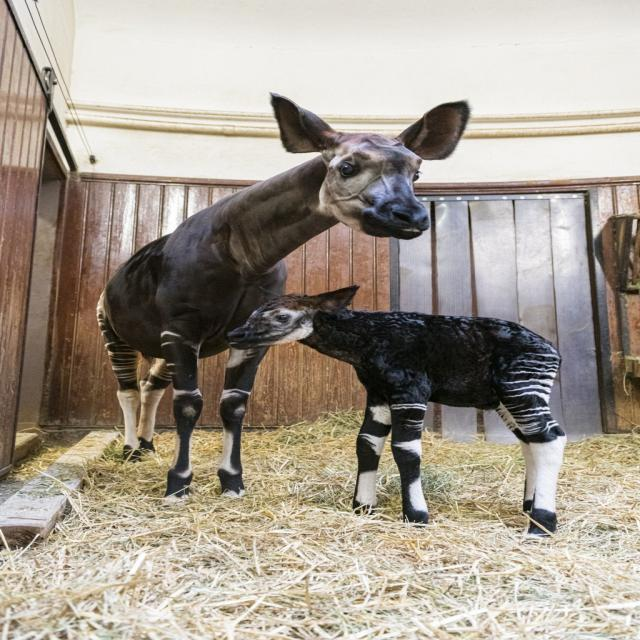Okapi: (88, 80, 474, 495), (219, 276, 587, 546)
